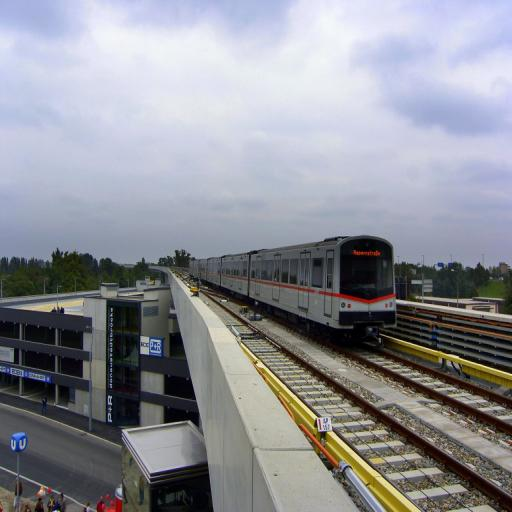X-Wagen: (188, 232, 397, 323)
